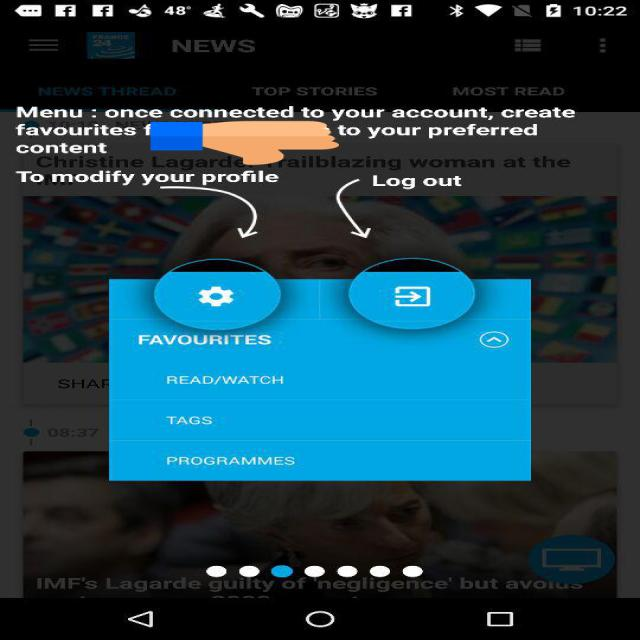obstruction: (150, 120, 339, 166)
